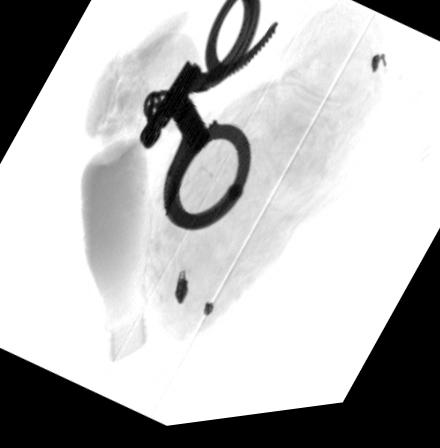HandCuffs: (137, 0, 279, 239)
